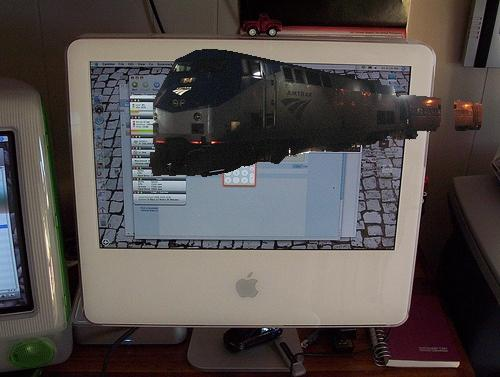tampered: (150, 50, 482, 177)
